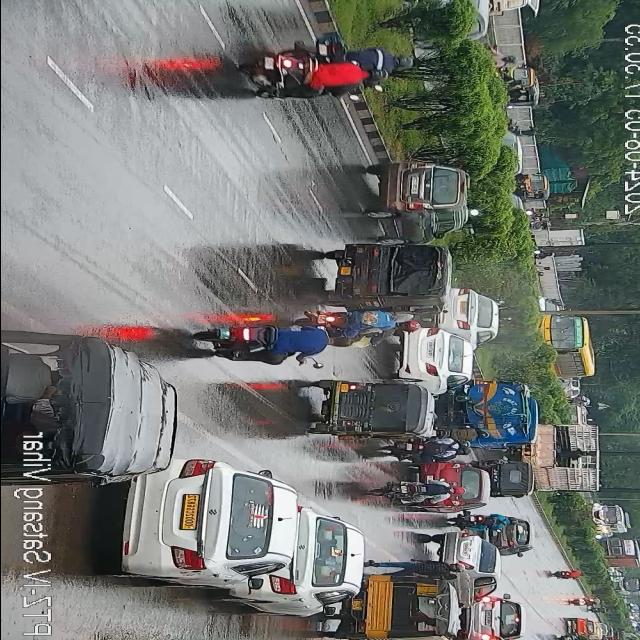2-wheelers: (248, 48, 376, 102), (200, 323, 358, 365), (286, 41, 418, 70), (312, 309, 420, 342), (385, 472, 467, 504), (391, 436, 473, 459), (452, 508, 514, 530), (552, 566, 586, 586), (507, 125, 540, 136), (489, 51, 515, 63), (570, 598, 602, 606), (523, 208, 542, 218), (531, 250, 553, 258)
auto: (0, 348, 181, 482), (318, 234, 448, 316), (318, 375, 437, 443), (352, 566, 457, 640), (496, 64, 540, 110), (488, 460, 531, 498), (515, 172, 548, 204), (567, 614, 603, 638)
bus: (530, 310, 594, 378), (576, 502, 628, 533)
car: (120, 456, 292, 594), (258, 507, 364, 611), (364, 160, 466, 236), (398, 322, 468, 392), (433, 528, 498, 602), (415, 462, 489, 509), (444, 286, 496, 344), (462, 594, 526, 640), (491, 517, 533, 555)
pedestrian: (367, 560, 467, 580)
truck: (448, 374, 538, 448), (522, 418, 597, 496), (595, 538, 640, 570)
